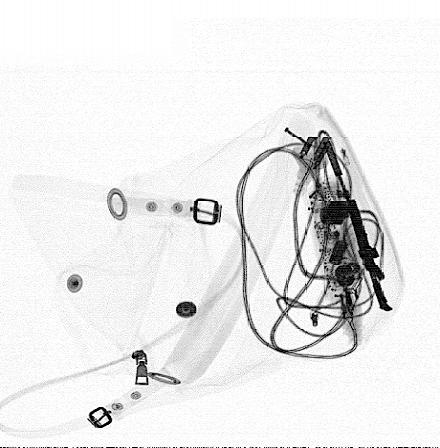Gun: (321, 137, 393, 309)
